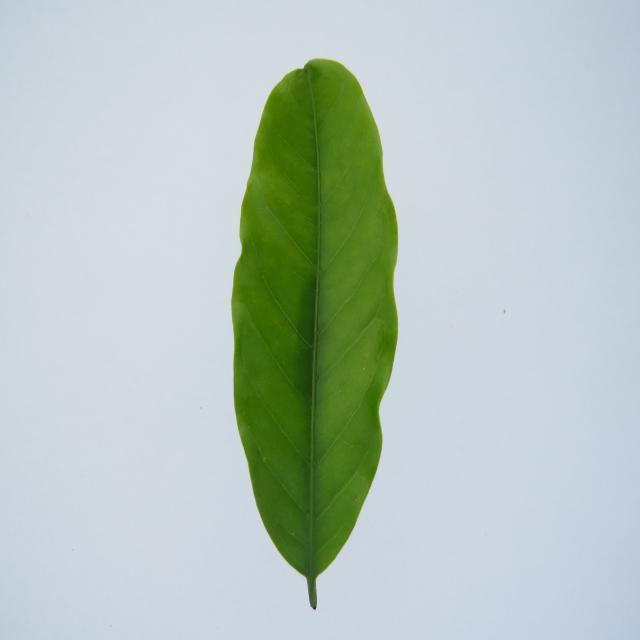DeficienciaNutricional-Boro: (231, 60, 398, 608)
